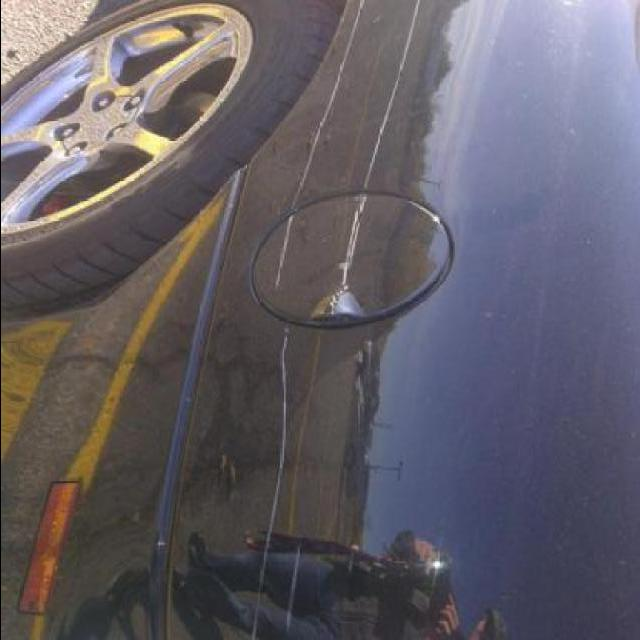paint-trace: (242, 0, 433, 639)
